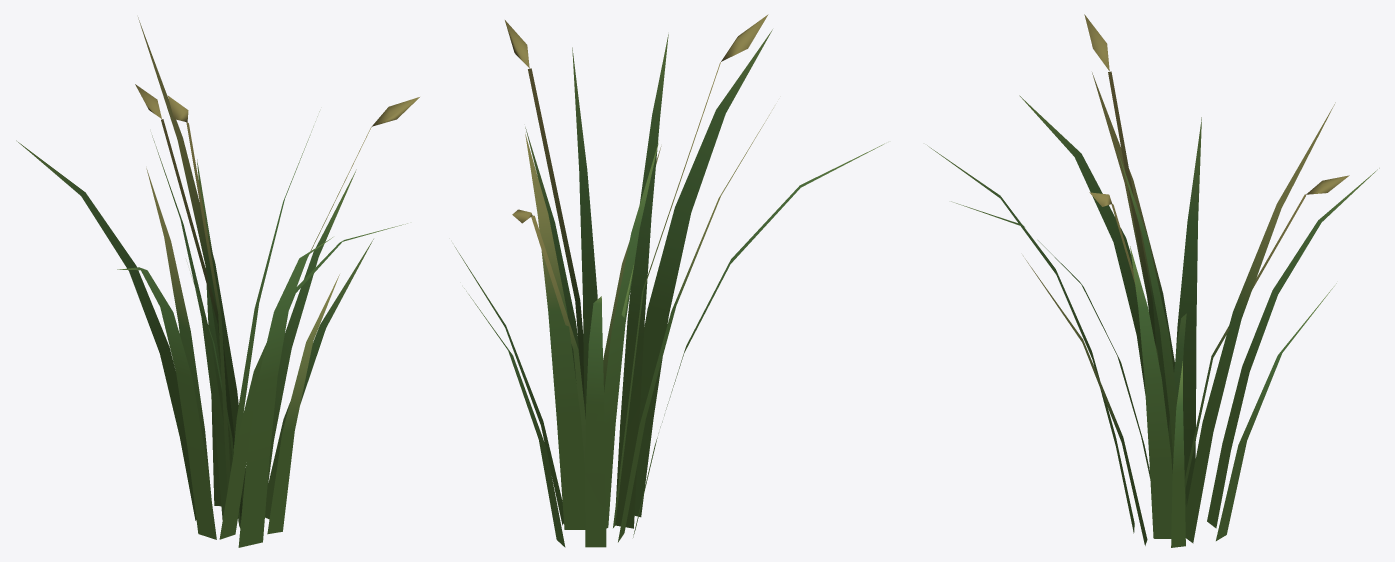
Rendered from grass_tall_A.glb.
3 views of the same model, side by side, from view 1: azimuth 30°, elevation 25°; view 2: azimuth 150°, elevation 25°; view 3: azimuth 270°, elevation 25° (orthographic). The views are drawn at different scales.
Visible parts, largest first — view 1: grass_tall_A; view 2: grass_tall_A; view 3: grass_tall_A.
Boxes of the visible parts, x1,y1,x2,y2 form: grass_tall_A: (16, 17, 419, 547); grass_tall_A: (454, 14, 884, 547); grass_tall_A: (927, 14, 1379, 547).
Size of the model in its own units: 0.4303 by 0.5888 by 0.5267.
